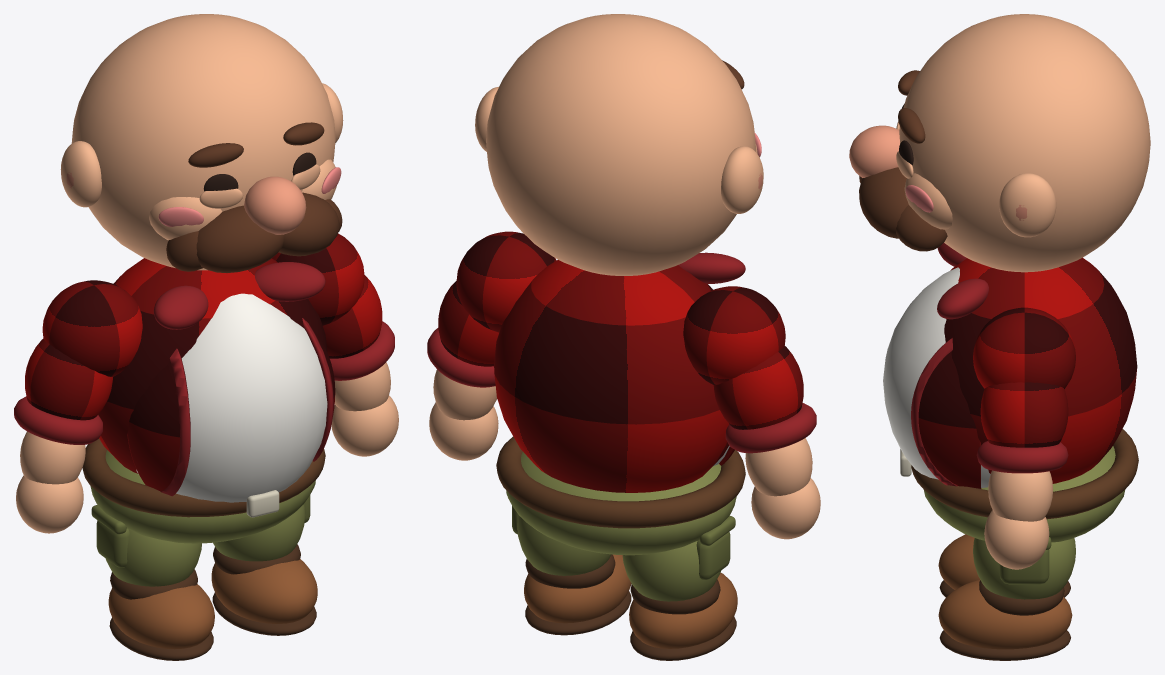
File: player_v2.glb
3 views of the same model, side by side, from view 1: azimuth 30°, elevation 25°; view 2: azimuth 150°, elevation 25°; view 3: azimuth 270°, elevation 25° (orthographic). The views are drawn at different scales.
Parts seen in each view (by area): view 1: Head, TankTop, Shirt.Body, Shirt.Shoulder.R, Pants.Hip, Boot.R, Boot.L, Belt, Shirt.Front.R, Shirt.Sleeve.R, Moustache.Lobe.R, Shirt.Shoulder.L (+29 smaller); view 2: Head, Shirt.Body, Belt, Shirt.Shoulder.R, Pants.Hip, Shirt.Shoulder.L, Shirt.Sleeve.R, Boot.R, Boot.L, Pants.Leg.R, Shirt.Sleeve.L, Hand.R (+14 smaller); view 3: Head, Shirt.Body, Shirt.Shoulder.L, TankTop, Shirt.Front.L, Boot.L, Shirt.Sleeve.L, Belt, Pants.Hip, Pants.Leg.L, Arm.L, Hand.L (+14 smaller).
Part boxes in pixels (left/top/right/bottom): Head: left=71, top=14, right=335, bottom=270; TankTop: left=136, top=293, right=327, bottom=502; Shirt.Body: left=98, top=258, right=327, bottom=473; Shirt.Shoulder.R: left=42, top=280, right=142, bottom=376; Pants.Hip: left=90, top=450, right=315, bottom=543; Boot.R: left=108, top=584, right=214, bottom=649; Boot.L: left=211, top=559, right=317, bottom=623; Belt: left=82, top=438, right=325, bottom=517; Shirt.Front.R: left=127, top=360, right=180, bottom=491; Shirt.Sleeve.R: left=25, top=339, right=112, bottom=420; Moustache.Lobe.R: left=196, top=205, right=283, bottom=272; Shirt.Shoulder.L: left=272, top=233, right=364, bottom=325; Head: left=486, top=14, right=755, bottom=275; Shirt.Body: left=494, top=260, right=729, bottom=492; Belt: left=496, top=436, right=745, bottom=528; Shirt.Shoulder.R: left=683, top=286, right=785, bottom=384; Pants.Hip: left=506, top=452, right=736, bottom=555; Shirt.Shoulder.L: left=456, top=231, right=556, bottom=332; Shirt.Sleeve.R: left=713, top=346, right=803, bottom=429; Boot.R: left=629, top=573, right=737, bottom=648; Boot.L: left=524, top=554, right=631, bottom=623; Pants.Leg.R: left=622, top=541, right=721, bottom=601; Shirt.Sleeve.L: left=438, top=281, right=498, bottom=366; Hand.R: left=751, top=478, right=820, bottom=539; Head: left=899, top=14, right=1150, bottom=272; Shirt.Body: left=944, top=257, right=1137, bottom=483; Shirt.Shoulder.L: left=973, top=307, right=1075, bottom=388; TankTop: left=883, top=267, right=990, bottom=487; Shirt.Front.L: left=918, top=351, right=981, bottom=488; Boot.L: left=938, top=580, right=1072, bottom=649; Shirt.Sleeve.L: left=980, top=382, right=1068, bottom=447; Belt: left=911, top=429, right=1138, bottom=519; Pants.Hip: left=924, top=446, right=1124, bottom=542; Pants.Leg.L: left=973, top=538, right=1075, bottom=599; Arm.L: left=988, top=470, right=1053, bottom=521; Hand.L: left=984, top=510, right=1049, bottom=569.
Size of the model in its own units: 1.13 by 1.72 by 0.7883.
Materials: 18 (1 with a texture image).
